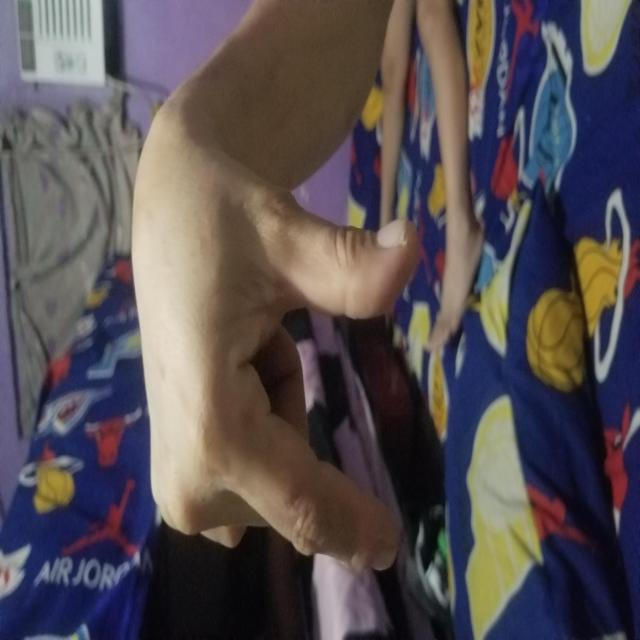Q: (67, 130, 495, 424)
